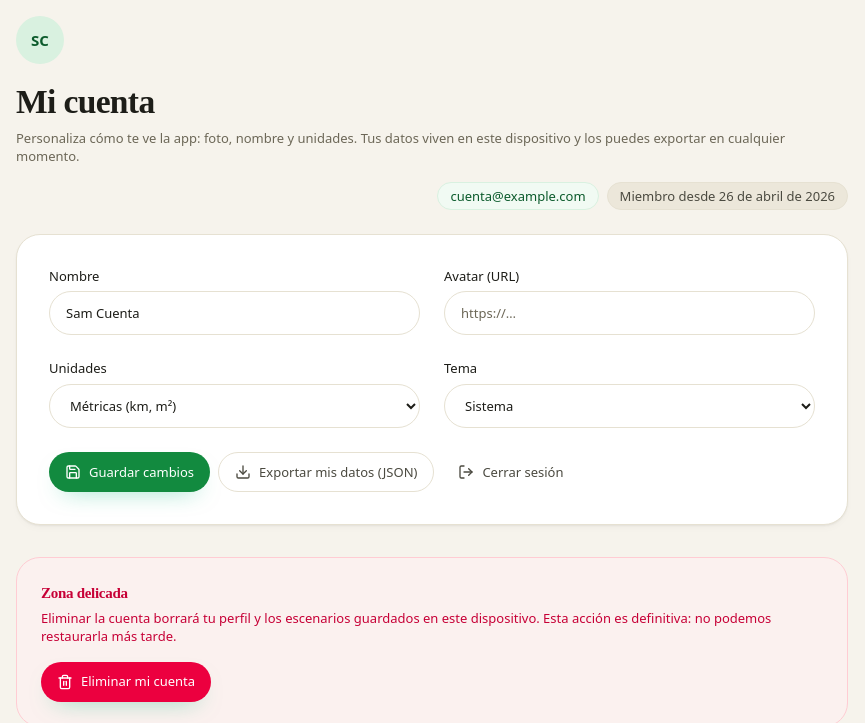
Test: AccountPage › actualiza el perfil al guardar cambios
The image size is (865, 723).
Replace the text in the field labelled "Nombre" with "Sam Refrescada": (234, 314) [49,292,420,336]
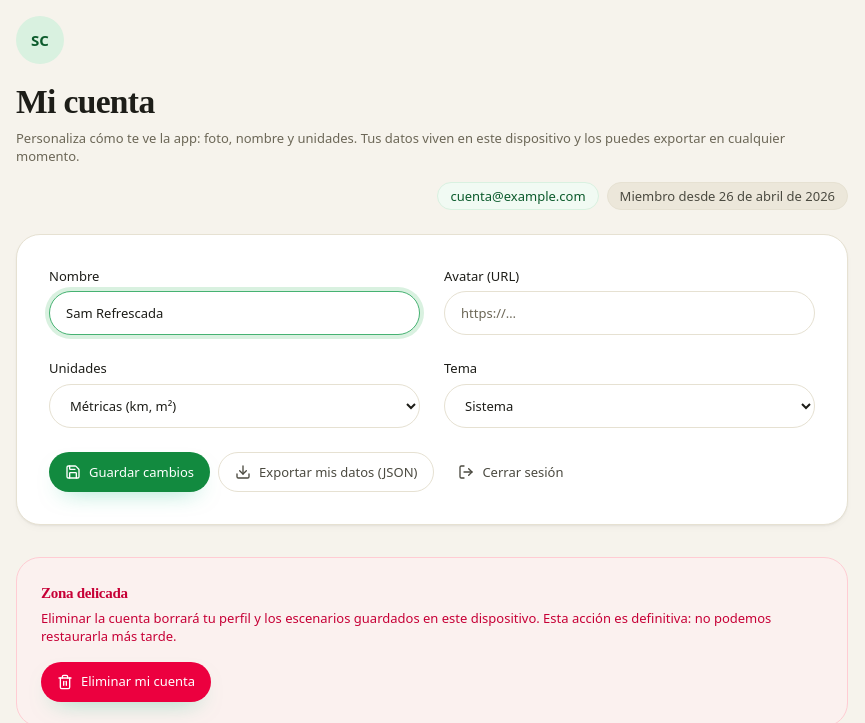
Select "Oscuro" in the dropdown labelled "Tema": (630, 406) [444,384,815,428]
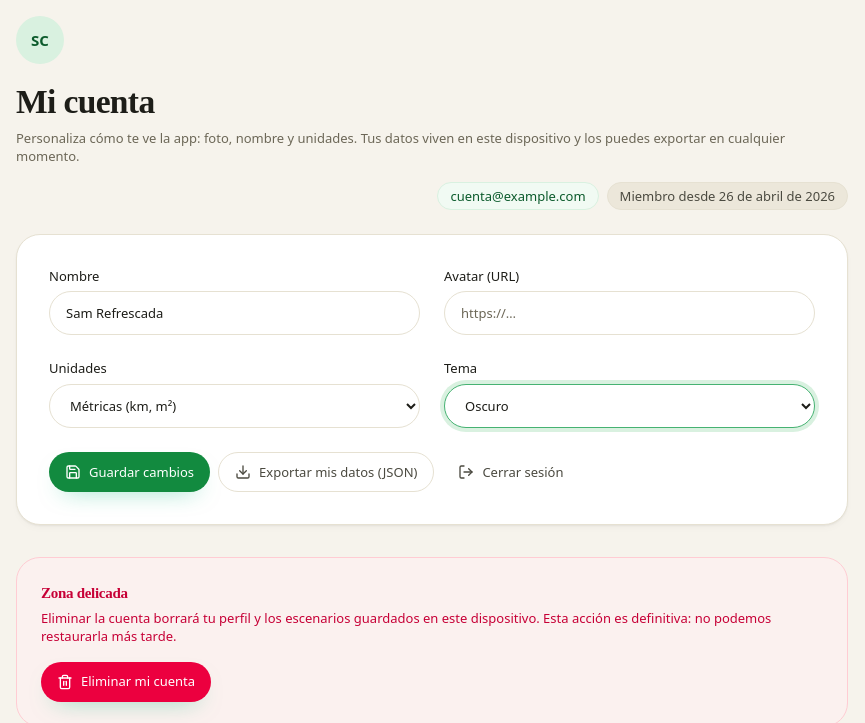
Click the button "Guardar cambios": (130, 472) [49,452,210,492]
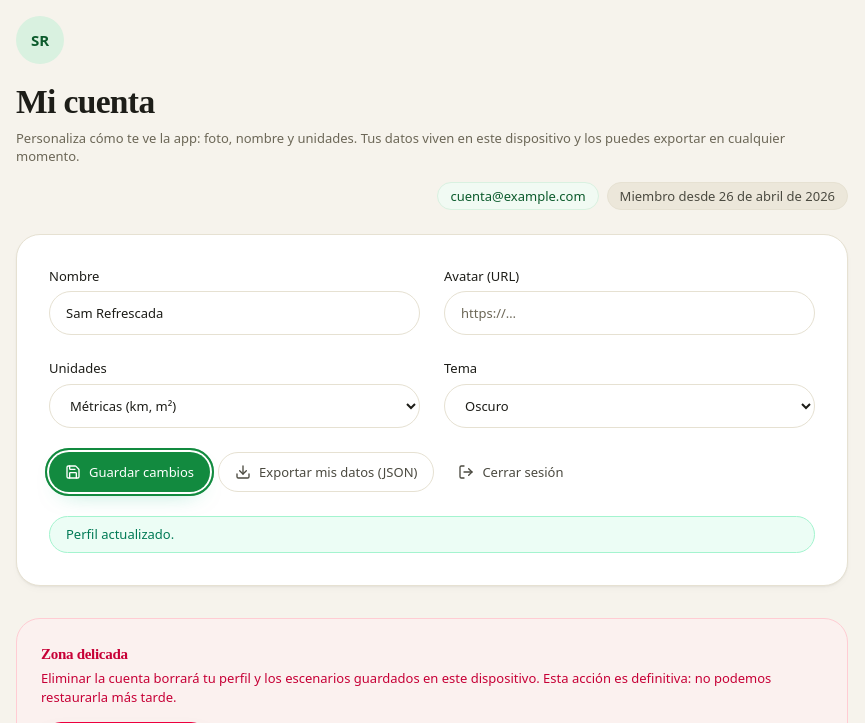
Expected: the message shows "Perfil actualizado", [66,525,174,543]
